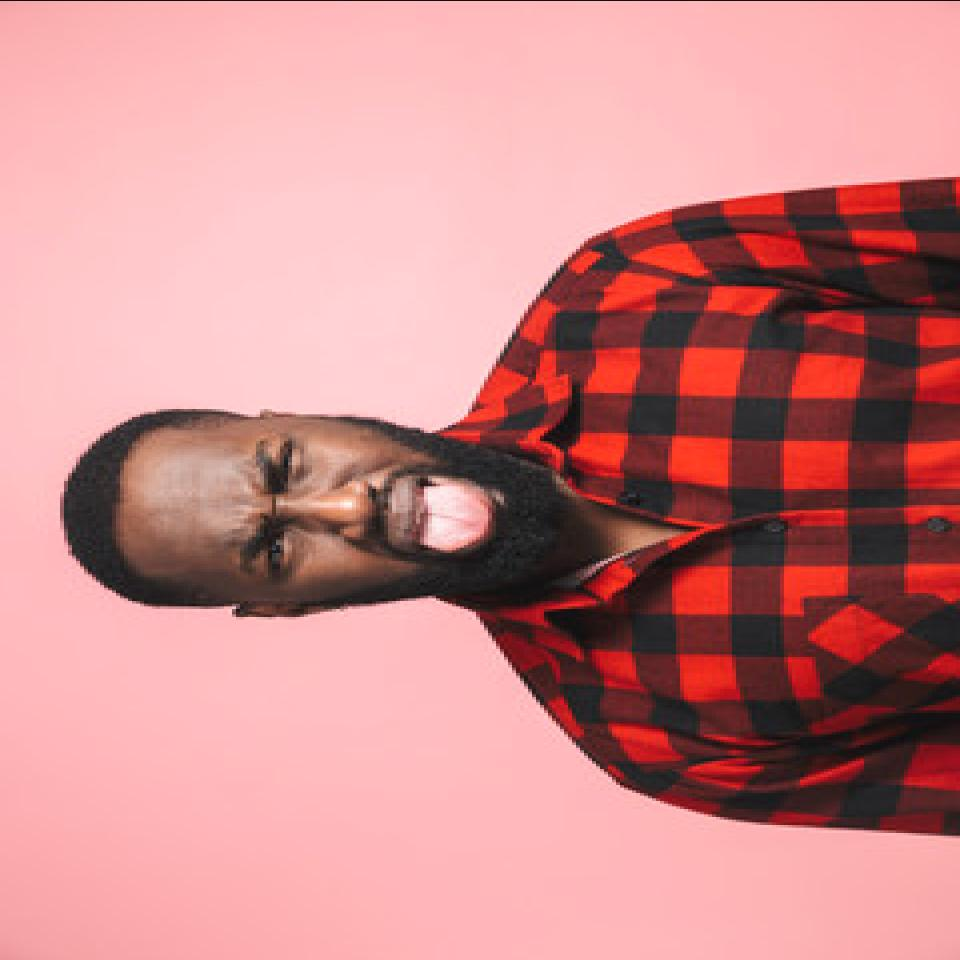Disgust: (137, 420, 525, 606)
